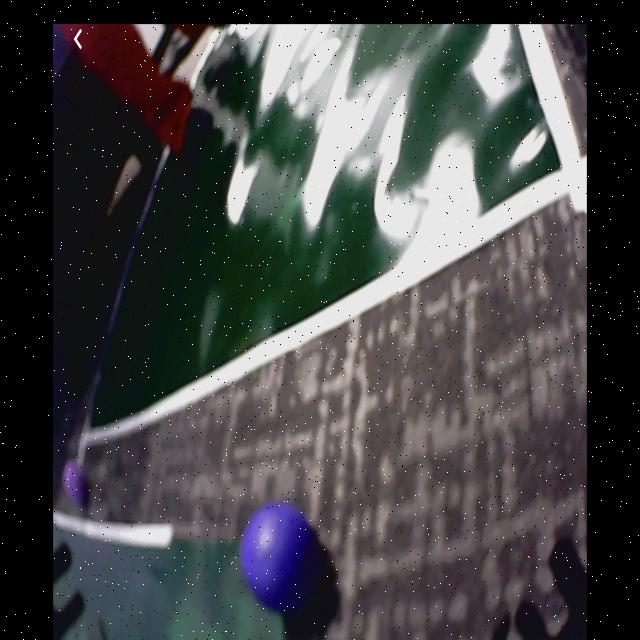ball: (242, 504, 311, 608), (63, 458, 87, 503)
